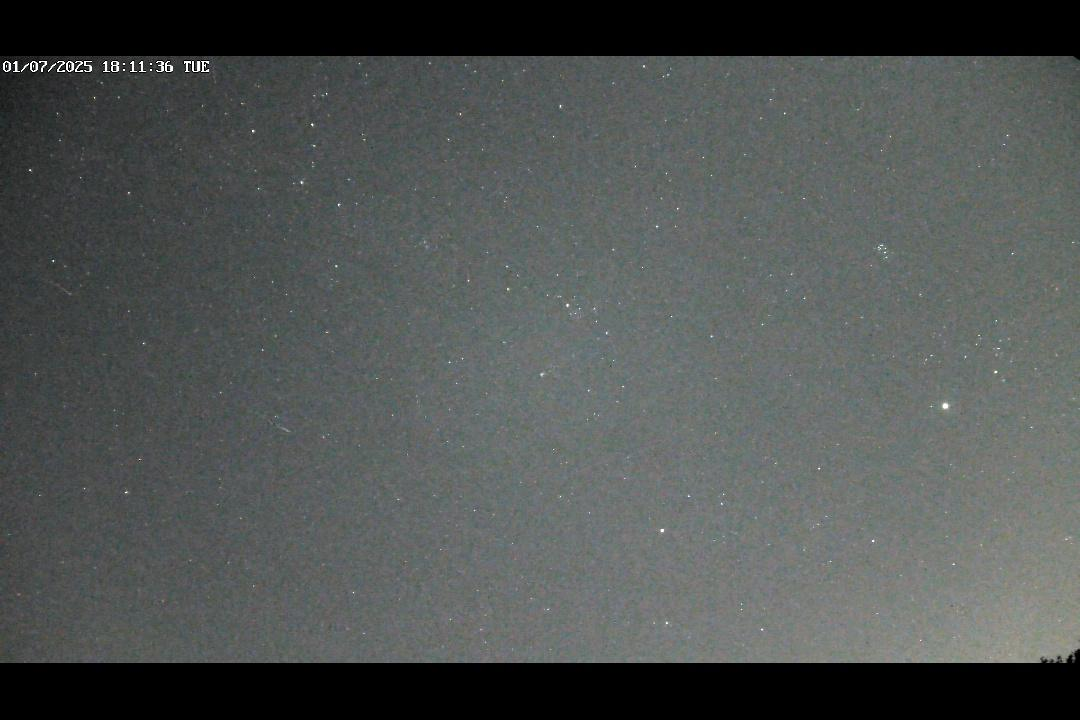Plane: (39, 273, 82, 302), (253, 409, 294, 438)
